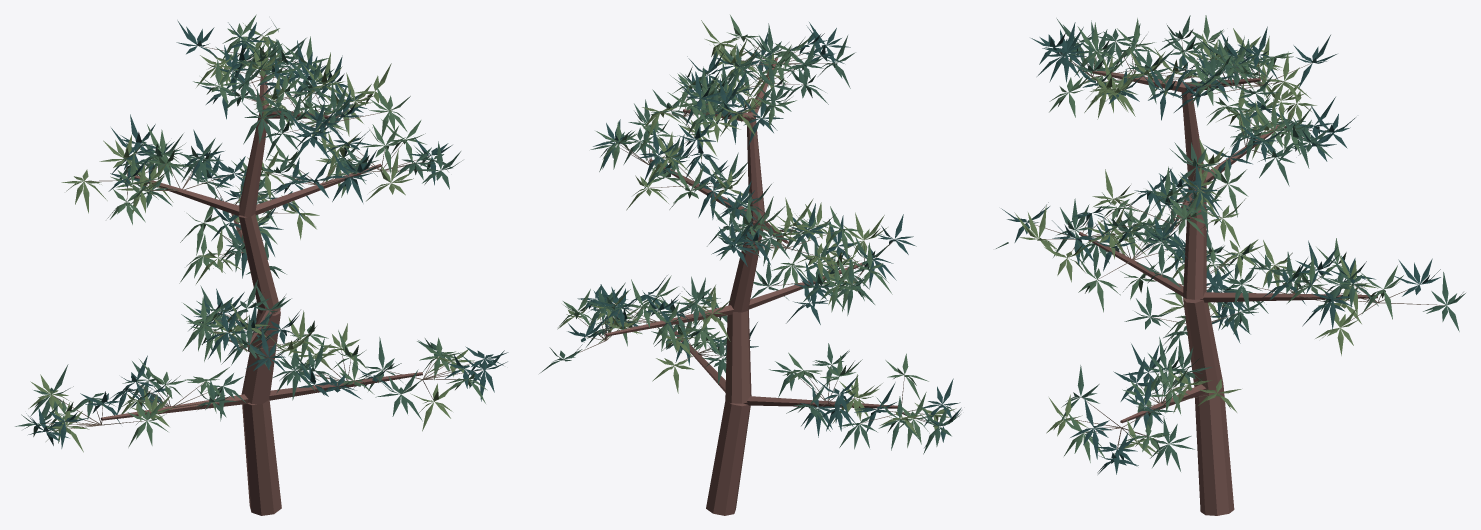
Rendered from ART_IrohaPine.lod.glb.
The picture shows the model from 3 angles, left to right: view 1: azimuth 30°, elevation 25°; view 2: azimuth 150°, elevation 25°; view 3: azimuth 270°, elevation 25°; orthographic projection. The views are drawn at different scales.
Parts seen in each view (by area): view 1: ART_IrohaPine; view 2: ART_IrohaPine; view 3: ART_IrohaPine.
Part boxes in pixels (box(x1,y1,x2,y2)): ART_IrohaPine: box(15, 14, 508, 515); ART_IrohaPine: box(539, 15, 961, 515); ART_IrohaPine: box(996, 15, 1465, 515).
Bounding box in the file's own units: 9.2 × 9.5 × 8.38.
